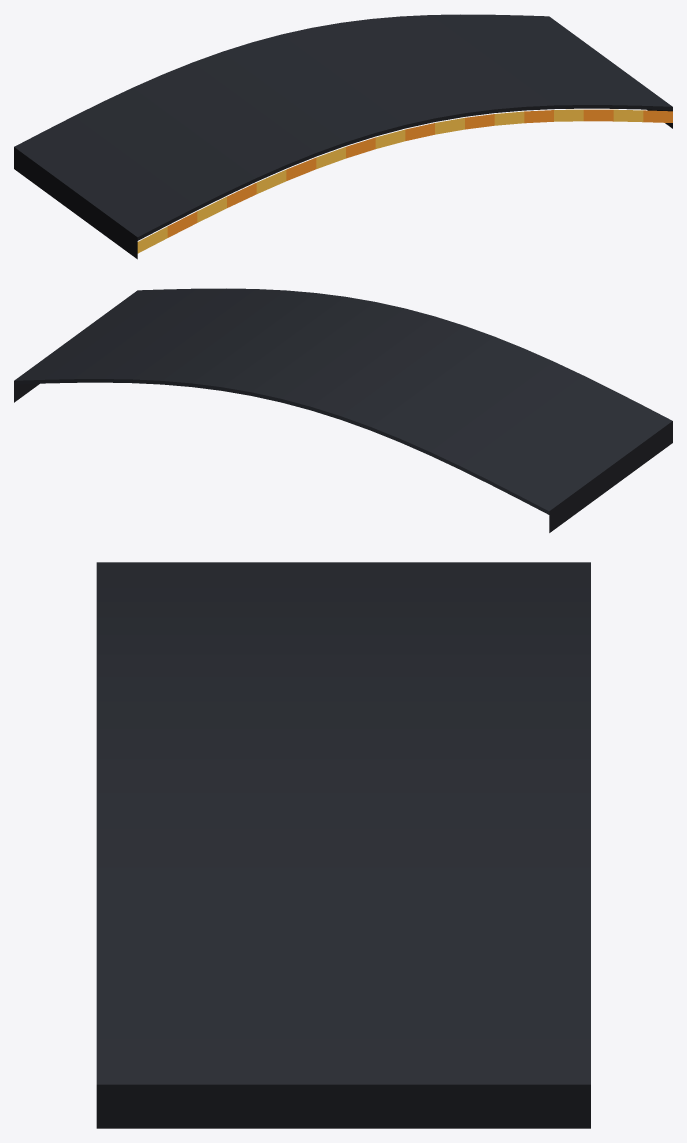
Rendered from StageArch.obj.
3 renders of one model, top to bottom at view 1: azimuth 30°, elevation 25°; view 2: azimuth 150°, elevation 25°; view 3: azimuth 270°, elevation 25°, orthographic. The views are drawn at different scales.
Parts seen in each view (by area): view 1: StageArch; view 2: StageArch; view 3: StageArch.
Boxes of the visible parts, x1,y1,x2,y2 form: StageArch: (14,14,672,259); StageArch: (14,288,672,532); StageArch: (96,562,590,1128).
Bounding box in the file's own units: 38 × 4.7 × 15.22.
Materials: 2 (2 with a texture image).
